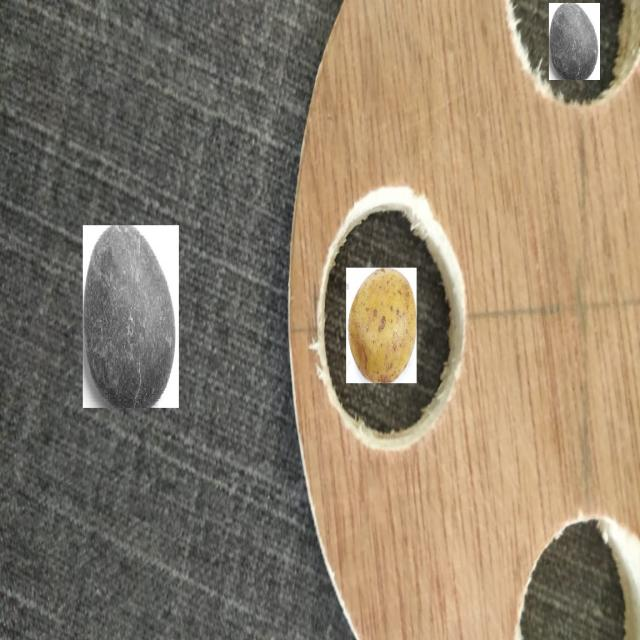potato: (349, 272, 414, 381)
